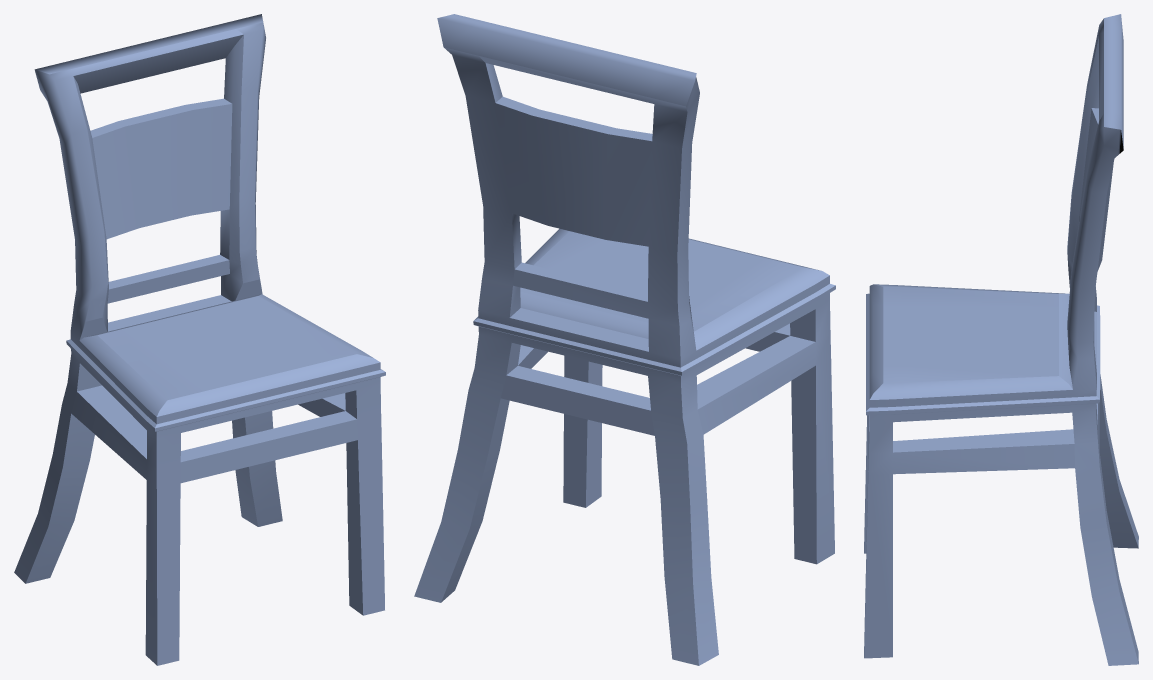
Rendered from LobbyChairs03.fbx.
3 views of the same model, side by side, from view 1: azimuth 30°, elevation 25°; view 2: azimuth 150°, elevation 25°; view 3: azimuth 270°, elevation 25° (orthographic). The views are drawn at different scales.
Visible parts, largest first — view 1: LobbyChairs3_MESH; view 2: LobbyChairs3_MESH; view 3: LobbyChairs3_MESH.
Boxes of the visible parts, box(x1,y1,x2,y2) form: LobbyChairs3_MESH: box(14, 14, 385, 665); LobbyChairs3_MESH: box(414, 14, 835, 665); LobbyChairs3_MESH: box(864, 14, 1138, 665).
Size of the model in its own units: 68.52 by 129 by 60.7.
